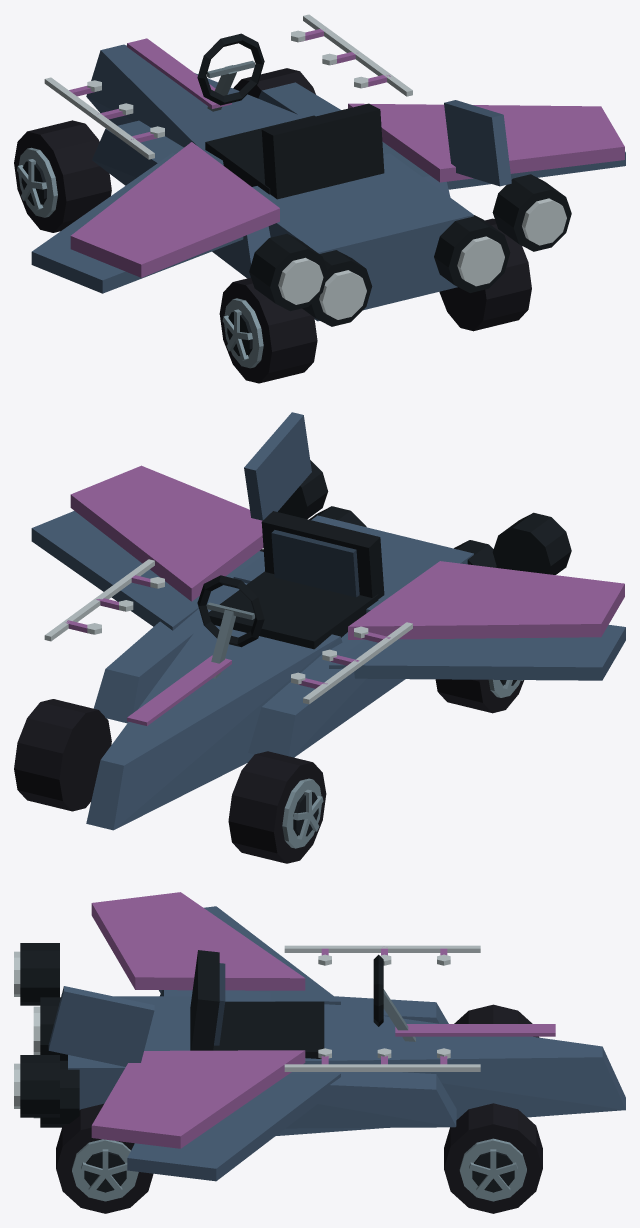
File: kart.glb
The picture shows the model from 3 angles, top to bottom: view 1: azimuth 30°, elevation 25°; view 2: azimuth 150°, elevation 25°; view 3: azimuth 270°, elevation 25°; orthographic projection. The views are drawn at different scales.
Visible parts, largest first — view 1: identity-starfighter-starfighter-flight-planform, identity-starfighter-motif-wings, identity-starfighter-driver-cockpit, identity-starfighter-motif-thrusters, wheel-front-left, wheel-rear-left, wheel-rear-right, identity-starfighter-motif-circuit, wheel-front-right; view 2: identity-starfighter-starfighter-flight-planform, identity-starfighter-motif-wings, identity-starfighter-driver-cockpit, wheel-front-left, wheel-front-right, identity-starfighter-motif-thrusters, identity-starfighter-motif-circuit, wheel-rear-left; view 3: identity-starfighter-starfighter-flight-planform, identity-starfighter-motif-wings, identity-starfighter-driver-cockpit, wheel-front-right, wheel-rear-right, identity-starfighter-motif-thrusters, identity-starfighter-motif-circuit, wheel-front-left.
Boxes of the visible parts, left/top/right/bottom form: identity-starfighter-starfighter-flight-planform: left=31, top=38, right=625, bottom=326; identity-starfighter-motif-wings: left=70, top=103, right=624, bottom=277; identity-starfighter-driver-cockpit: left=197, top=33, right=384, bottom=199; identity-starfighter-motif-thrusters: left=249, top=174, right=571, bottom=311; wheel-front-left: left=14, top=120, right=111, bottom=232; wheel-rear-left: left=219, top=277, right=317, bottom=383; wheel-rear-right: left=439, top=218, right=531, bottom=331; identity-starfighter-motif-circuit: left=44, top=14, right=412, bottom=159; wheel-front-right: left=233, top=68, right=315, bottom=98; identity-starfighter-starfighter-flight-planform: left=31, top=412, right=625, bottom=830; identity-starfighter-motif-wings: left=70, top=465, right=624, bottom=639; identity-starfighter-driver-cockpit: left=197, top=511, right=384, bottom=678; wheel-front-left: left=228, top=751, right=326, bottom=863; wheel-front-right: left=14, top=699, right=111, bottom=811; identity-starfighter-motif-thrusters: left=278, top=460, right=571, bottom=574; identity-starfighter-motif-circuit: left=44, top=559, right=412, bottom=704; wheel-rear-left: left=435, top=679, right=524, bottom=713; identity-starfighter-starfighter-flight-planform: left=33, top=906, right=625, bottom=1181; identity-starfighter-motif-wings: left=91, top=892, right=305, bottom=1148; identity-starfighter-driver-cockpit: left=190, top=950, right=415, bottom=1058; wheel-front-right: left=444, top=1103, right=542, bottom=1213; wheel-rear-right: left=56, top=1103, right=153, bottom=1213; identity-starfighter-motif-thrusters: left=14, top=943, right=59, bottom=1117; identity-starfighter-motif-circuit: left=284, top=945, right=480, bottom=1071; wheel-front-left: left=454, top=1004, right=539, bottom=1037.
Size of the model in its own units: 3.14 by 1.18 by 3.09.
